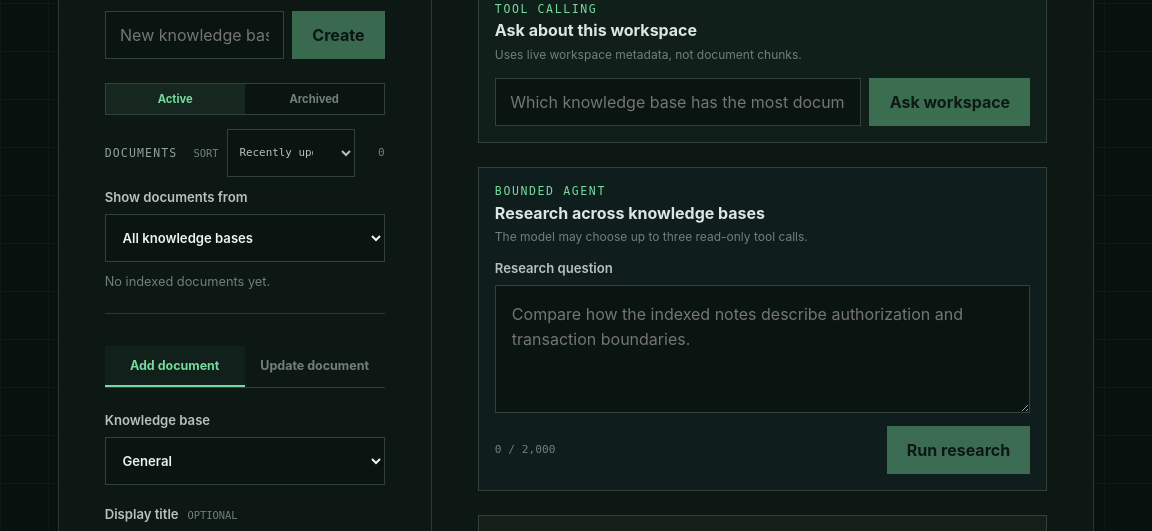
Test case: runs bounded research and renders steps, stop reason, and evidence
(page scrolled)
Replace the text in the text box labelled "Research question" with "Explain transaction boundaries" at (763, 349), box [495,285,1030,413]
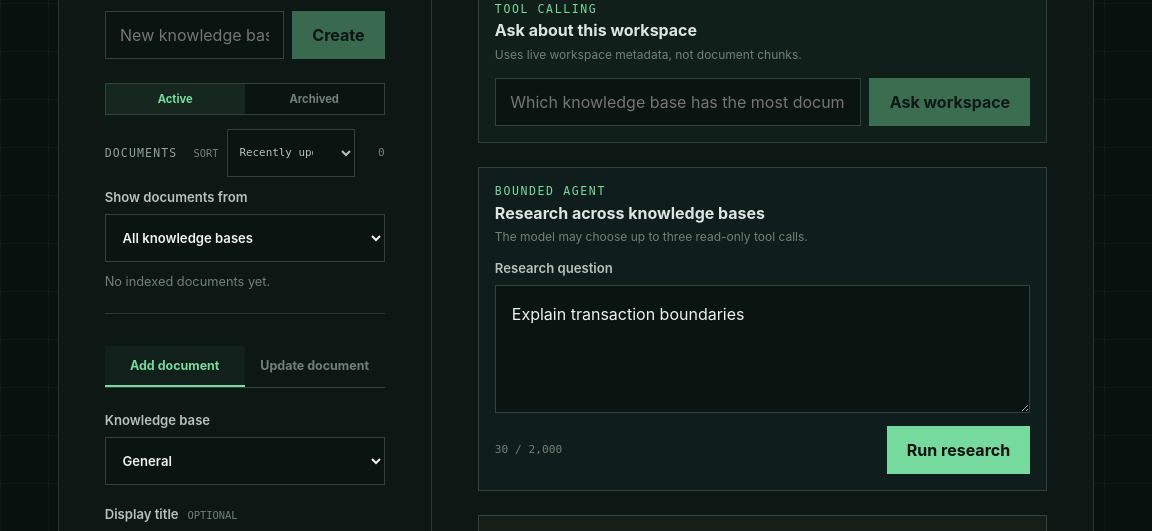
Click the button "Run research".
click(958, 450)  # box [887,426,1030,474]
(page scrolled)
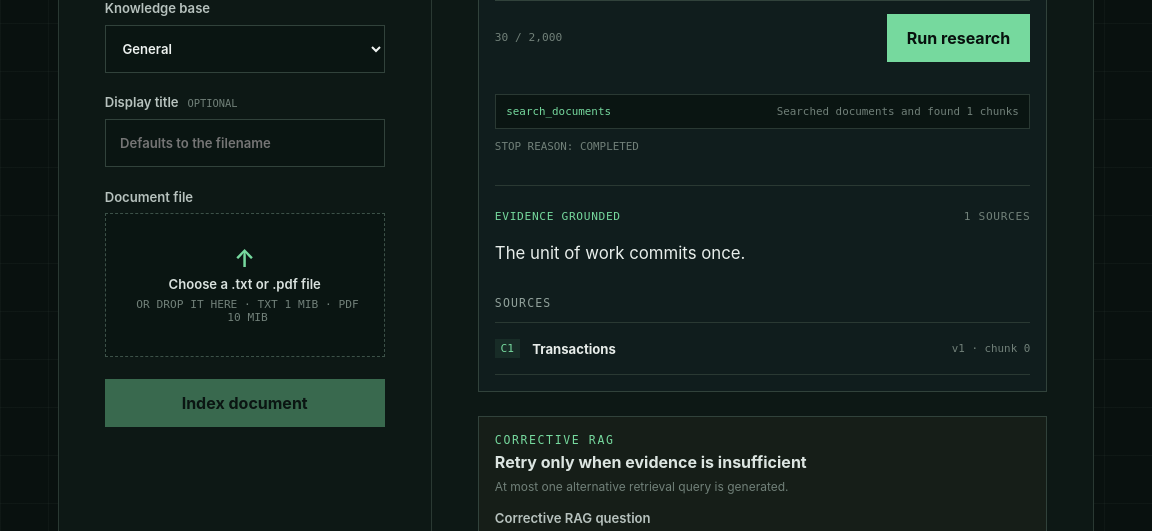
expect the text "The unit of work commits once." is shown: met, box [495,243,745,263]
expect the text "search_documents" is shown: met, box [506,105,611,118]
expect the text "Stop reason: completed" is shown: met, box [495,140,639,153]
